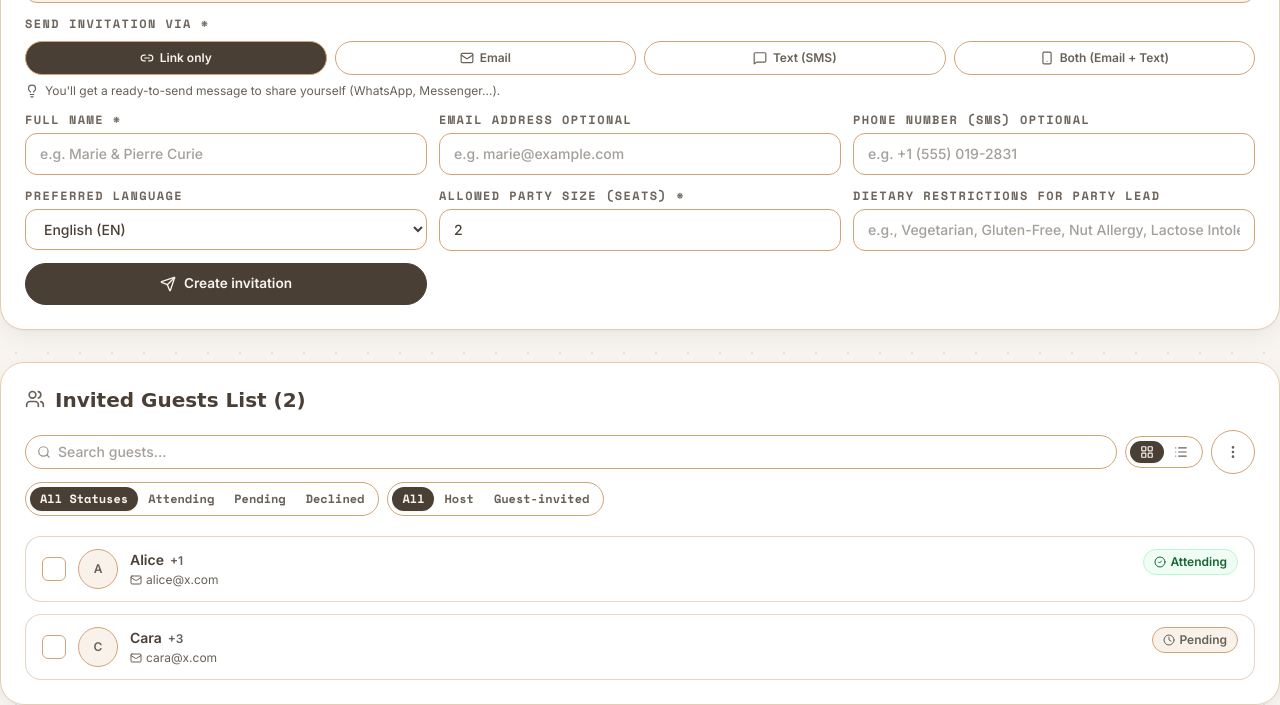
admin guest list: filtering › narrows the list by name and clears back to everyone
(page scrolled)
Expected: the text "Alice" is shown, [130, 551, 164, 568]
Type "cara" into the field labelled "Search guests..." at (571, 452), box [25, 435, 1117, 469]
(page scrolled)
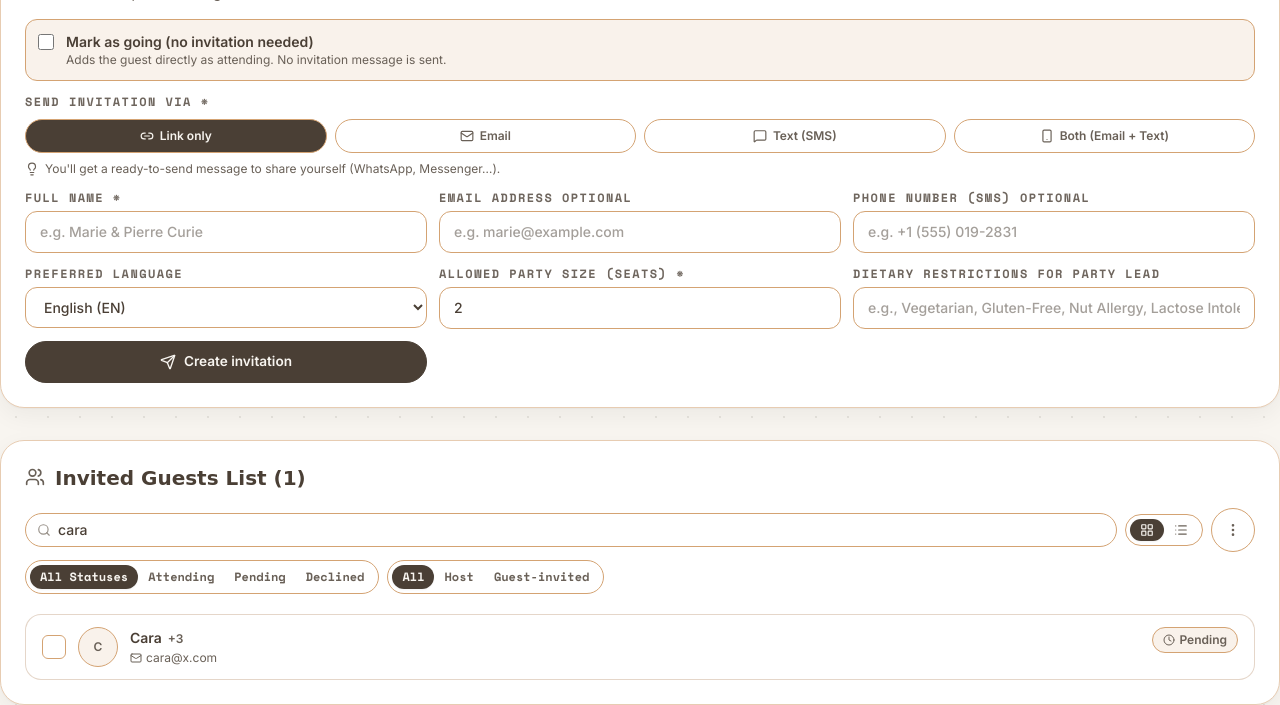
Expected: the text "Cara" is shown, [130, 629, 162, 646]
Expected: the button "Alice" is gone
Clear the field named "Search guests..." at (571, 530), box [25, 513, 1117, 547]
(page scrolled)
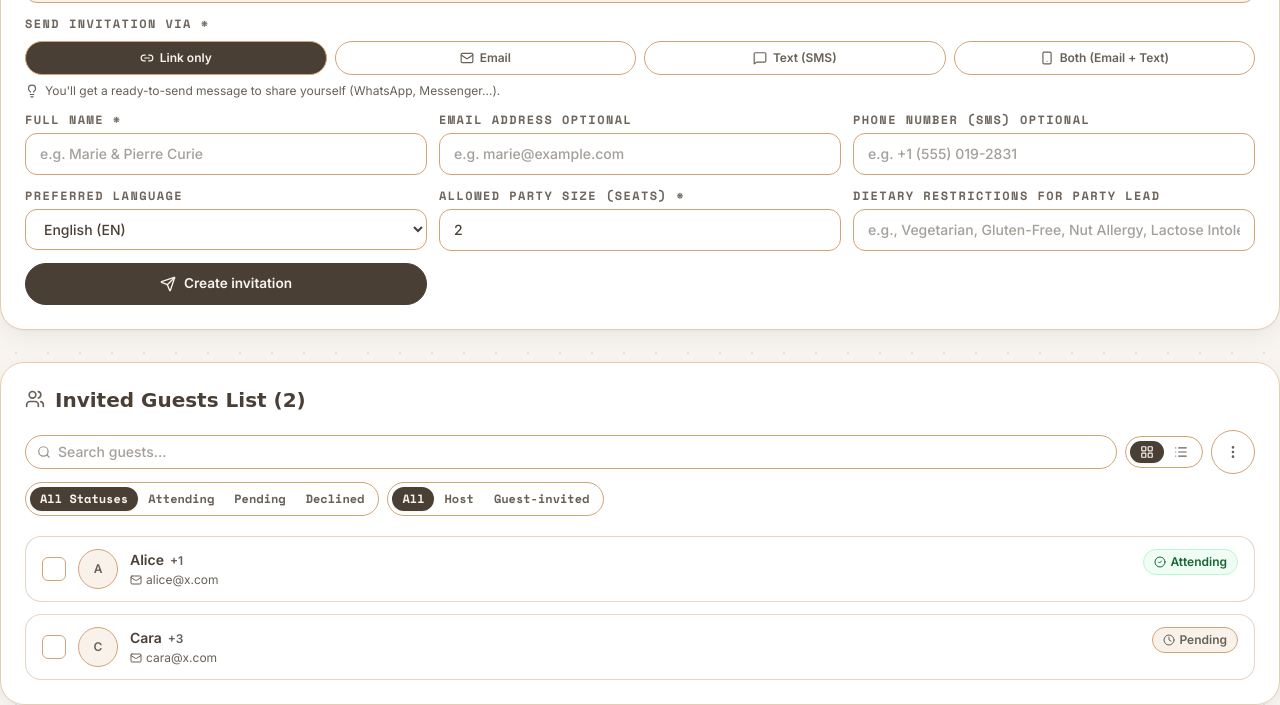
Expected: the text "Alice" is shown, [130, 551, 164, 568]
